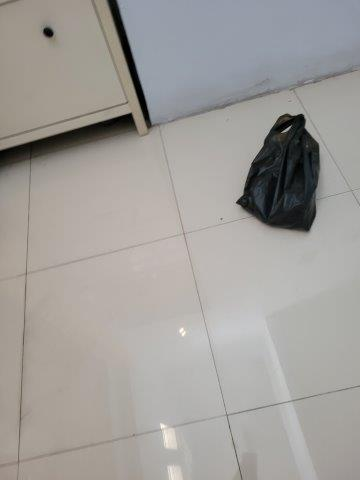plastik: (233, 115, 324, 234)
